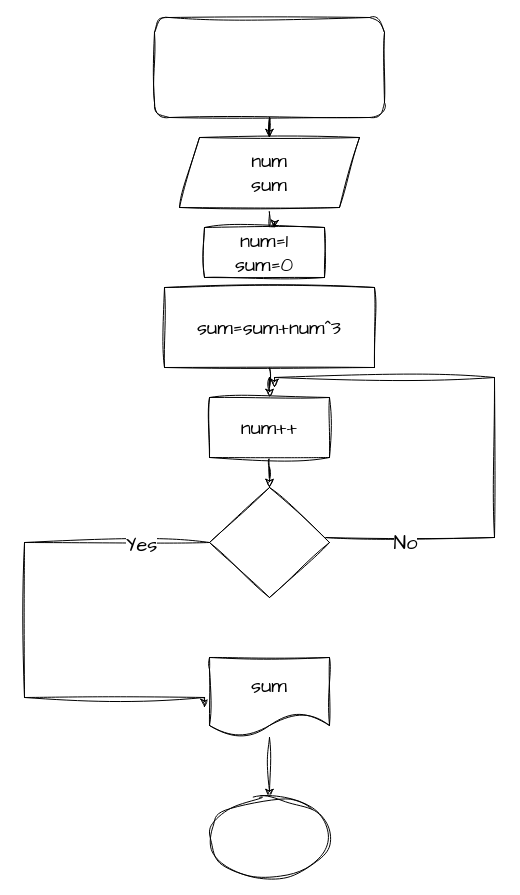
Some shapes in this 520 by 895 pixel diagram are drawn without their labels. The centre of each missing label's shape, as x and y in pixels:
"End" belongs at (269,837).
"num==101" belongs at (269,542).
"Start" belongs at (269,67).
